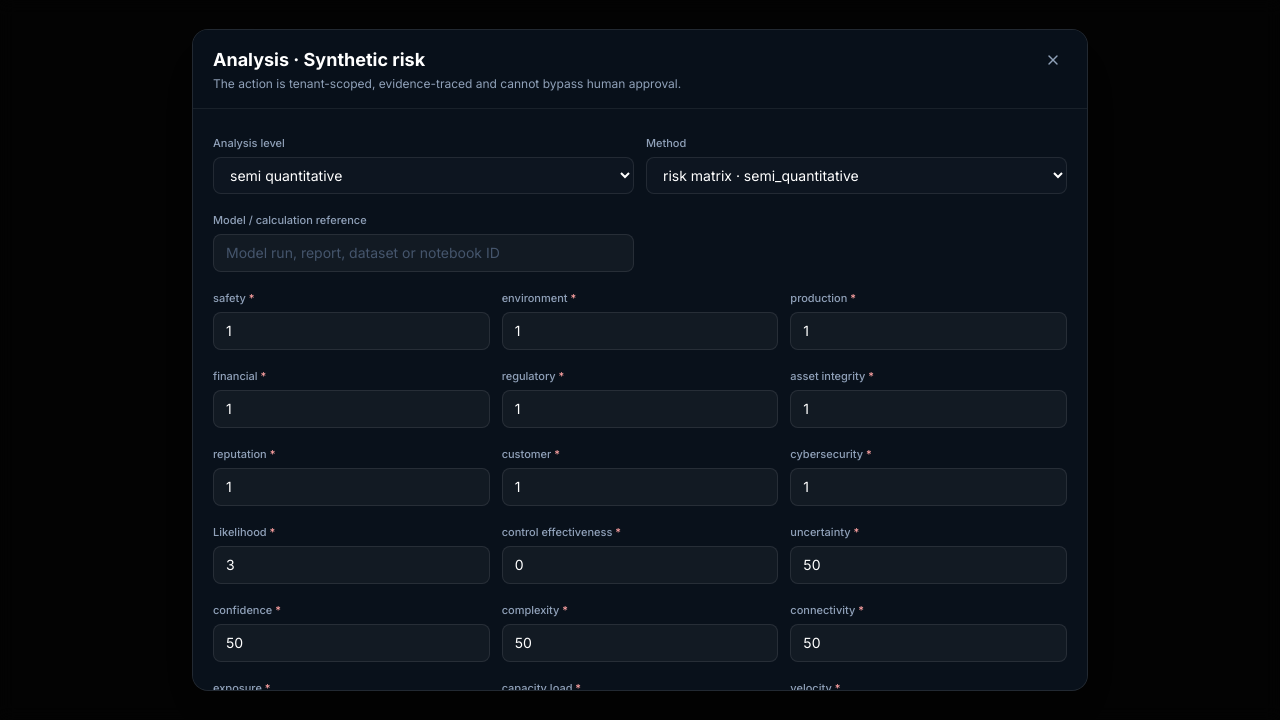
Test: actual governed Risk ActionModal › does not show an older input's response after the form changes
Replace the text in the number field labelled "Likelihood" with "2". click: (351, 565)
box: [213,546,490,584]
(page scrolled)
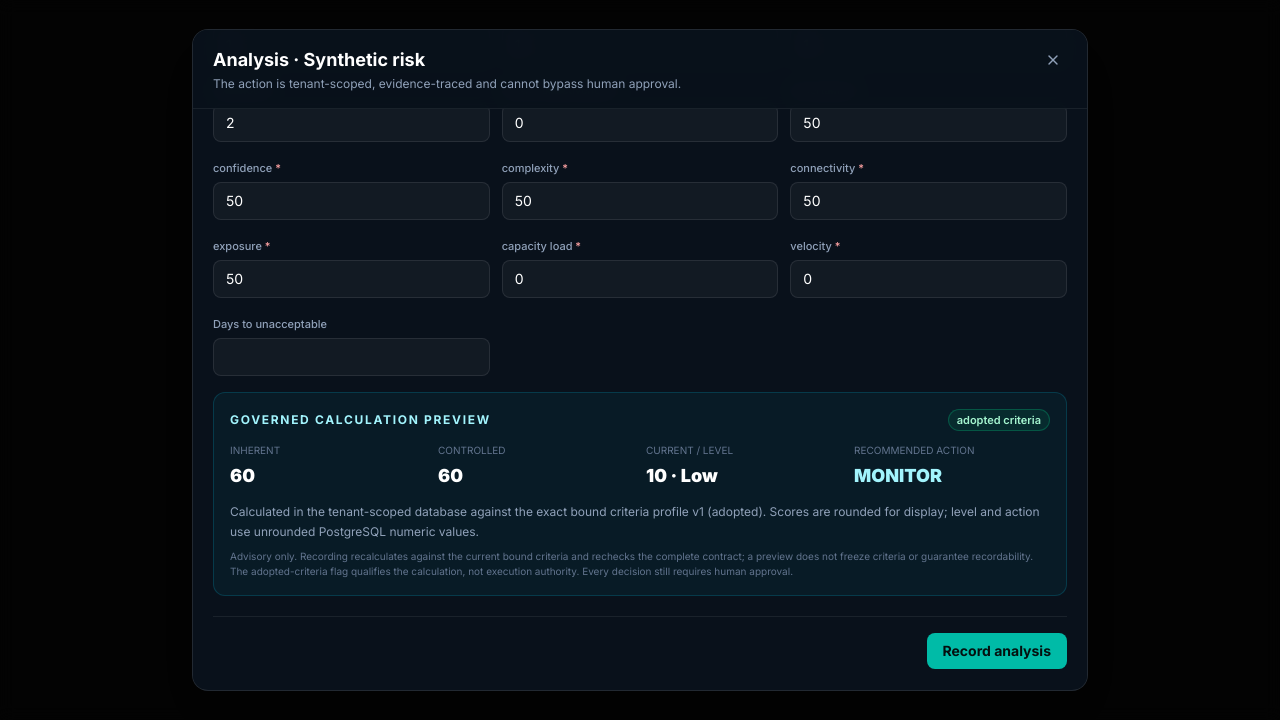
Expected: the element with test id "risk-analysis-preview" does not show "60 · High", [213,392,1067,596]
Result: the element with test id "risk-analysis-preview" shows "10 · Low" at [213,392,1067,596]
